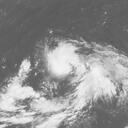cyclone: (48, 43, 82, 79)
